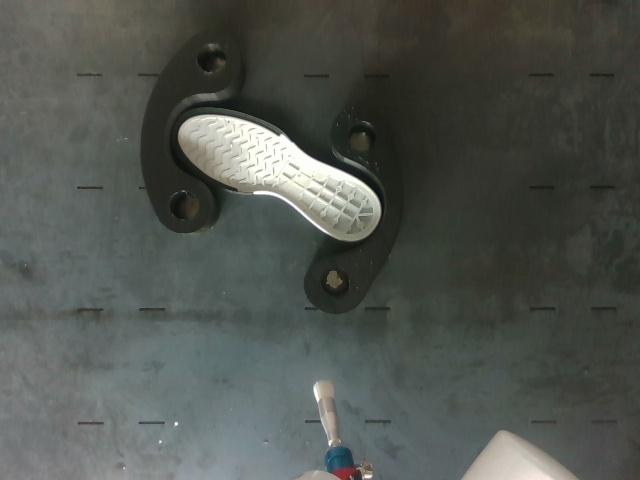shoes: (175, 110, 380, 239)
